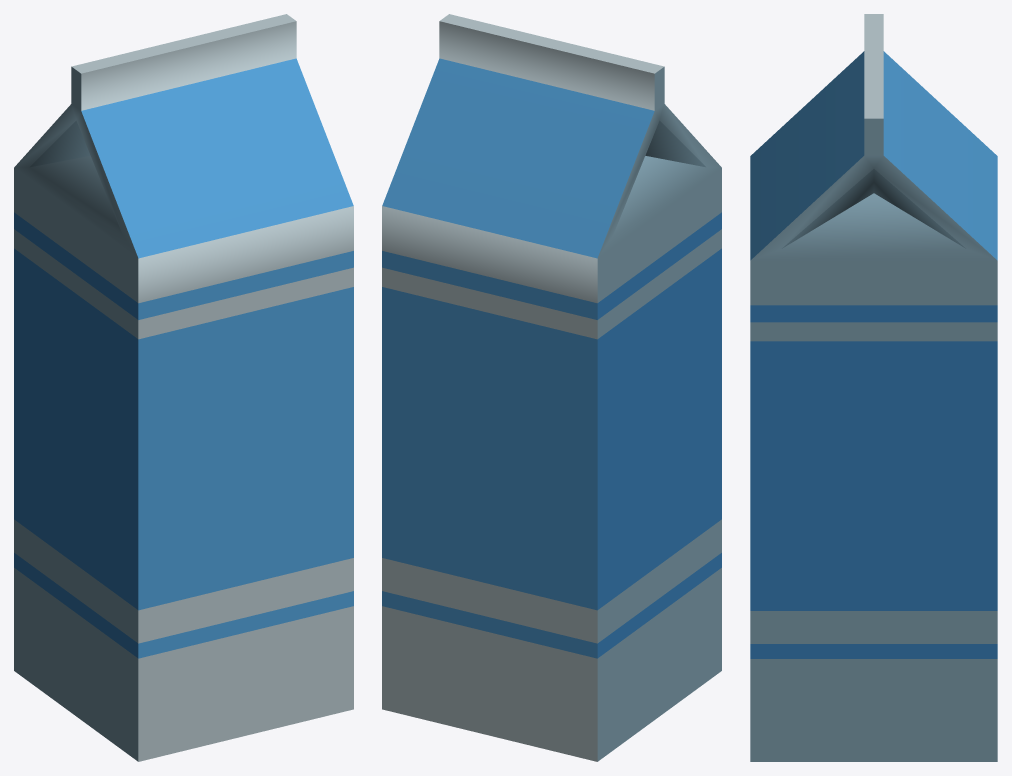
File: consumables-drinks-milk_v1.glb
The picture shows the model from 3 angles, left to right: view 1: azimuth 30°, elevation 25°; view 2: azimuth 150°, elevation 25°; view 3: azimuth 270°, elevation 25°; orthographic projection.
Parts seen in each view (by area): view 1: Milk.001; view 2: Milk.001; view 3: Milk.001.
Boxes of the visible parts, bbox=[...] form: Milk.001: bbox=[14, 14, 353, 761]; Milk.001: bbox=[382, 14, 721, 761]; Milk.001: bbox=[750, 14, 997, 761].
Bounding box in the file's own units: 0.131 × 0.3757 × 0.131.
